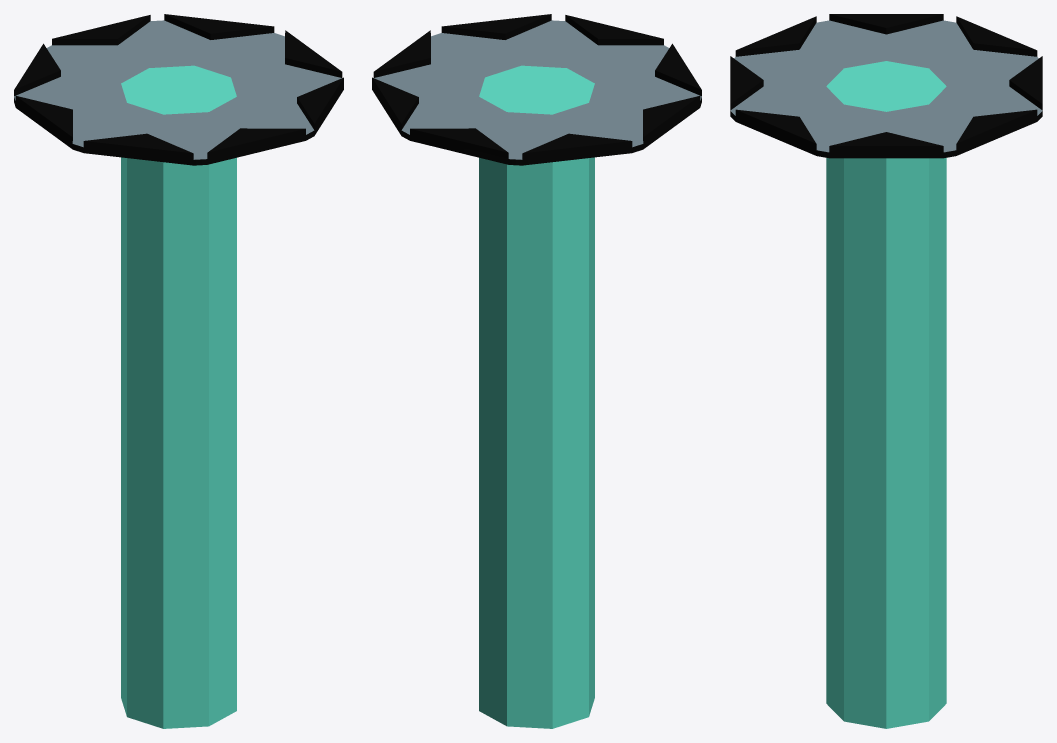
File: Lift_BombShoot.fbx
The picture shows the model from 3 angles, left to right: view 1: azimuth 30°, elevation 25°; view 2: azimuth 150°, elevation 25°; view 3: azimuth 270°, elevation 25°; orthographic projection.
Parts seen in each view (by area): view 1: BombHolder; view 2: BombHolder; view 3: BombHolder.
Part boxes in pixels (left/top/right/bottom): BombHolder: left=14, top=14, right=343, bottom=728; BombHolder: left=372, top=14, right=701, bottom=728; BombHolder: left=730, top=14, right=1042, bottom=728.
Bounding box in the file's own units: 1.65 × 3.64 × 1.65.
